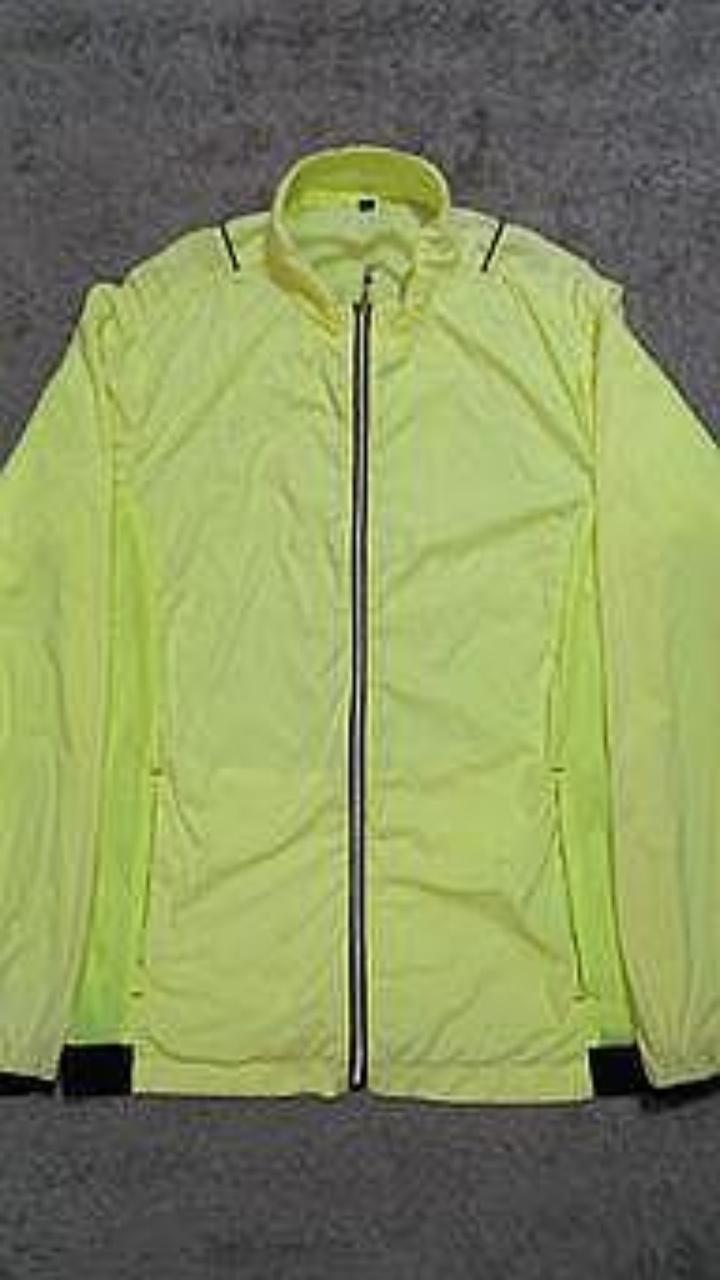Sports_Jacket: (0, 143, 719, 1101)
